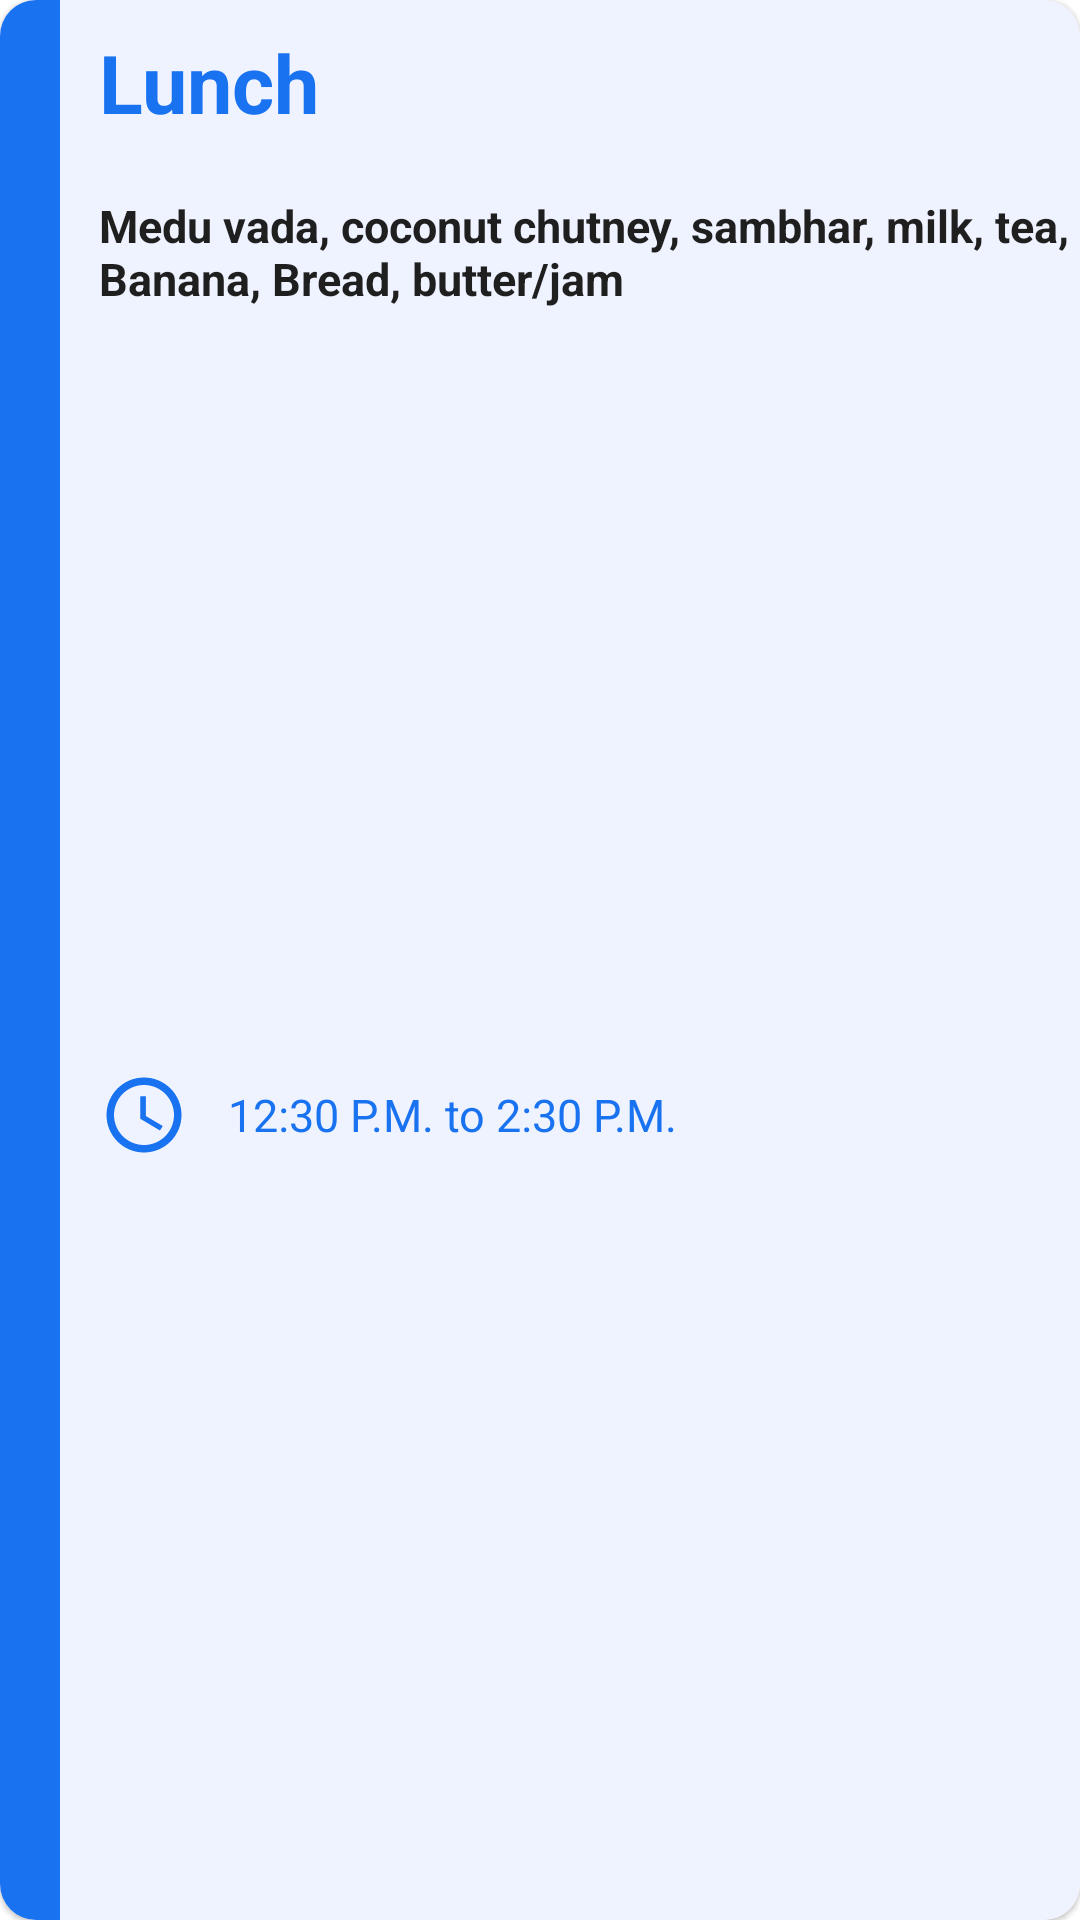

Locate icon controls on the screen. Image size 1080w x 1920h, boxes as (x1, y1, x2, y2).
access time: (106, 1077, 182, 1153)
